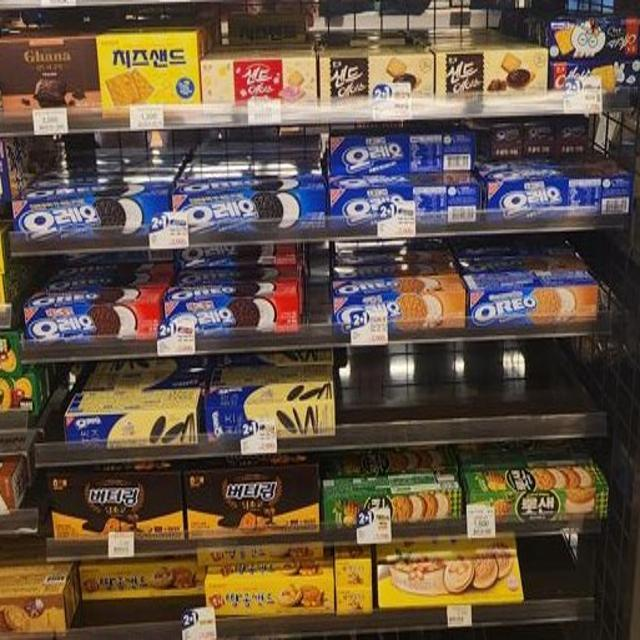product: (188, 458, 326, 541), (52, 472, 186, 549), (93, 30, 197, 112), (203, 58, 317, 123), (13, 195, 166, 242), (173, 186, 324, 233), (2, 42, 92, 111), (19, 299, 155, 341), (448, 52, 547, 103), (326, 61, 435, 103), (489, 180, 627, 211)
